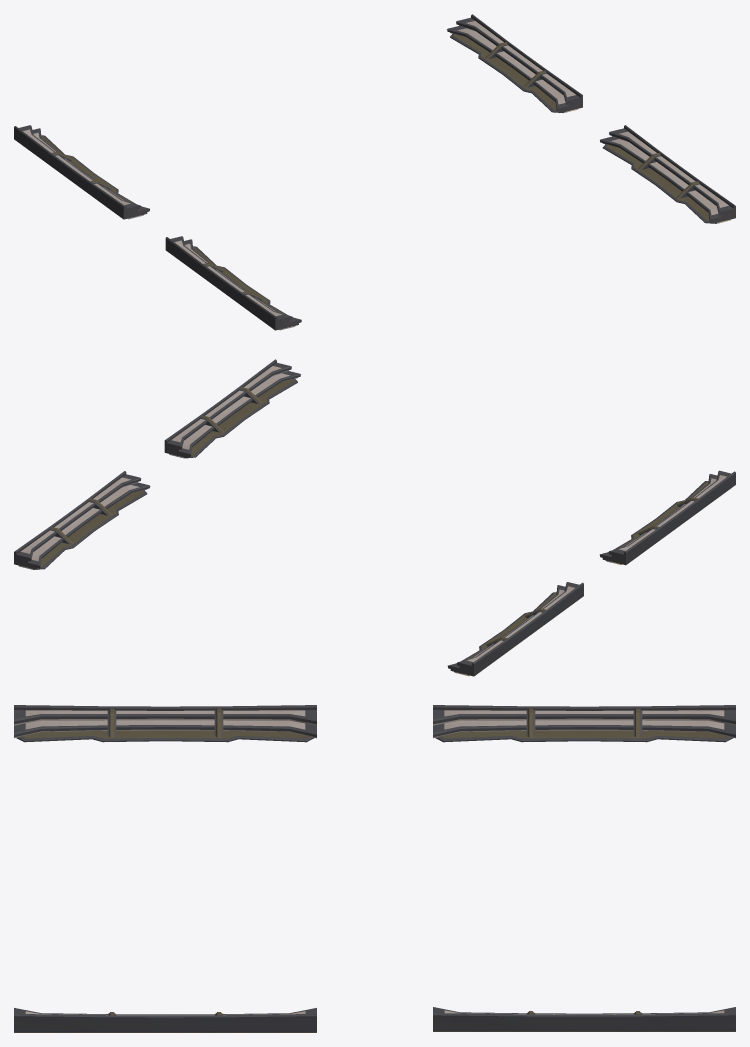
File: CombinedMeshes_SM_BridgeStair.fbx
The picture shows the model from 3 angles, top to bottom: view 1: azimuth 30°, elevation 25°; view 2: azimuth 150°, elevation 25°; view 3: azimuth 270°, elevation 25°; orthographic projection. The views are drawn at different scales.
Parts seen in each view (by area): view 1: CombinedMeshes_SM_BridgeStair__4_; view 2: CombinedMeshes_SM_BridgeStair__4_; view 3: CombinedMeshes_SM_BridgeStair__4_.
Part boxes in pixels (<box>): CombinedMeshes_SM_BridgeStair__4_: <box>14,14,735,330</box>; CombinedMeshes_SM_BridgeStair__4_: <box>14,359,735,676</box>; CombinedMeshes_SM_BridgeStair__4_: <box>14,705,735,1032</box>.
Bounding box in the file's own units: 2060 × 59.89 × 2025.
